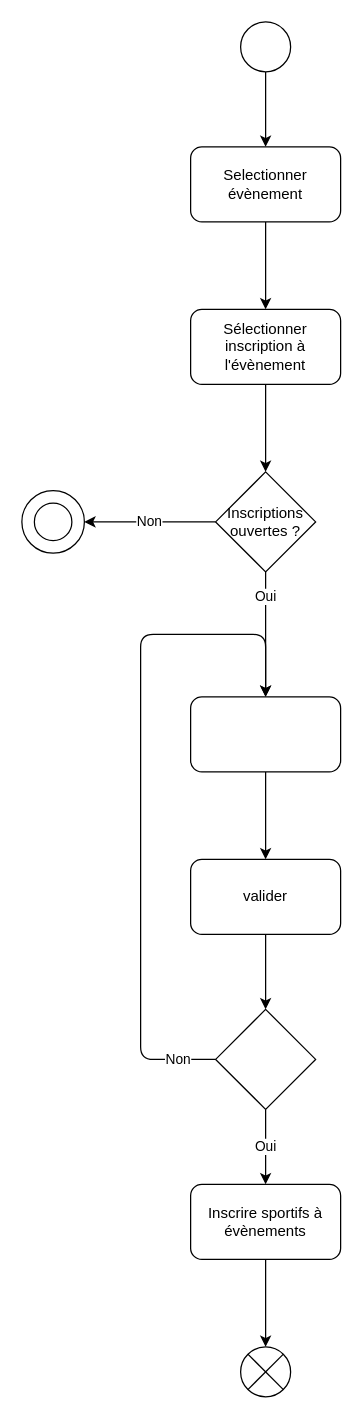
Image size: 363x1419. Some labels were removed from this diagram. Here are the shapes that lost their labels. From the top down, the centre of each, then its label:
point 265,734: Sélectionner sportif / liste de sportif
point 265,1058: form ok?
